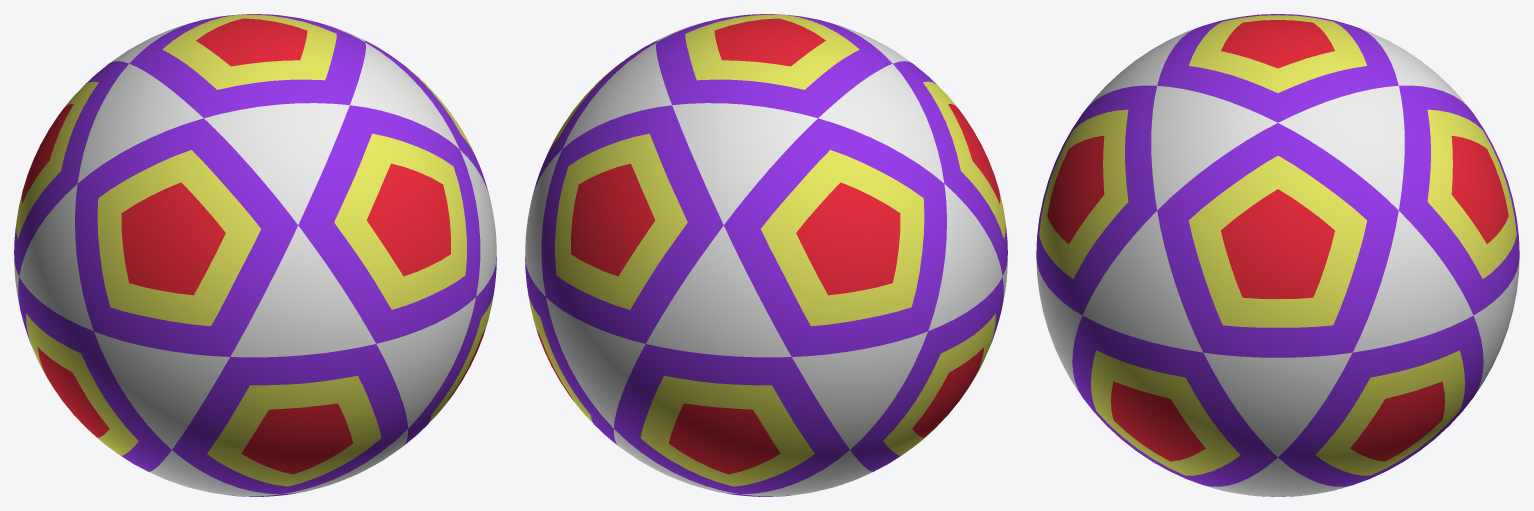
The model's file is Skins Pelota3.fbx.
3 renders of one model, left to right at view 1: azimuth 30°, elevation 25°; view 2: azimuth 150°, elevation 25°; view 3: azimuth 270°, elevation 25°, orthographic.
Visible parts, largest first — view 1: Icosphere.001; view 2: Icosphere.001; view 3: Icosphere.001.
Part boxes in pixels (x1,y1,x2,y2): Icosphere.001: (14, 14, 496, 496); Icosphere.001: (525, 14, 1007, 496); Icosphere.001: (1036, 14, 1519, 496).
Bounding box in the file's own units: 199 × 199 × 199.
